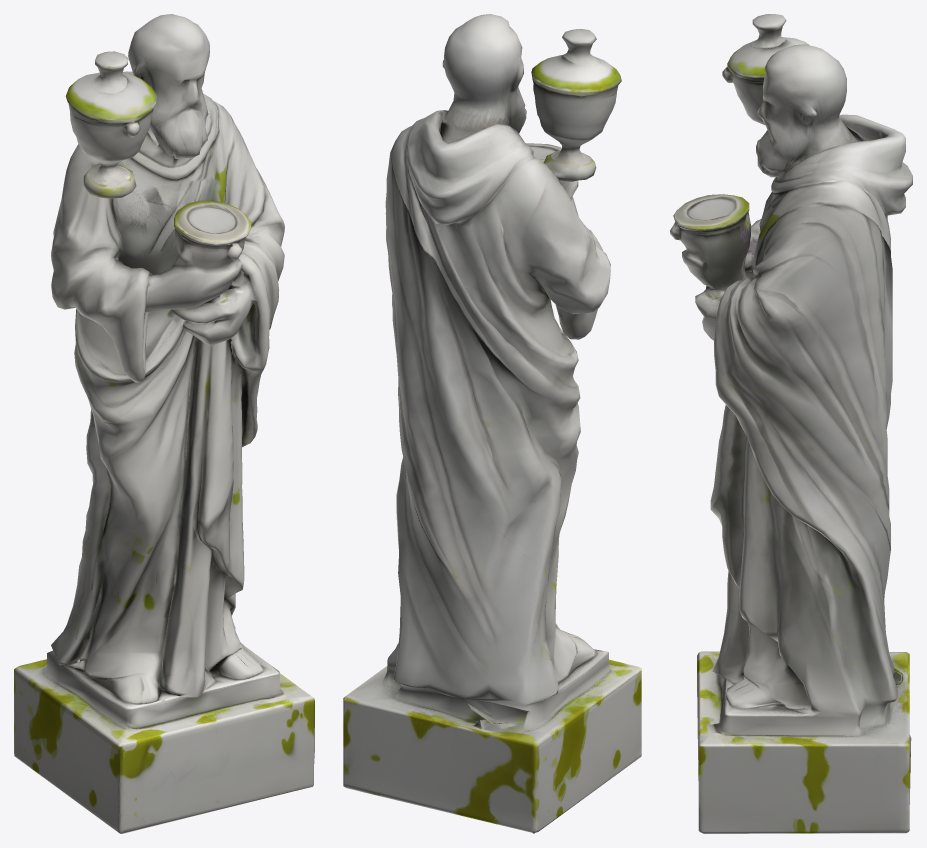
The model's file is garden_statue_urnbearer.glb.
3 views of the same model, side by side, from view 1: azimuth 30°, elevation 25°; view 2: azimuth 150°, elevation 25°; view 3: azimuth 270°, elevation 25° (orthographic).
Size of the model in its own units: 0.5714 by 1.91 by 0.5636.
Materials: 1 (1 with a texture image).
